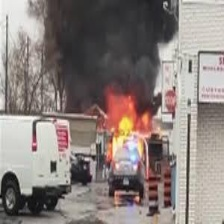fire: (101, 90, 153, 145)
smoke: (47, 2, 176, 86)
